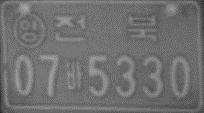0: (169, 54, 192, 101), (14, 53, 36, 97)
3: (142, 55, 164, 98), (115, 55, 136, 97)
5: (87, 55, 109, 98)
7: (38, 54, 61, 98)
바: (65, 61, 83, 93)
영: (13, 11, 45, 49)
전북_D: (53, 13, 159, 43)
